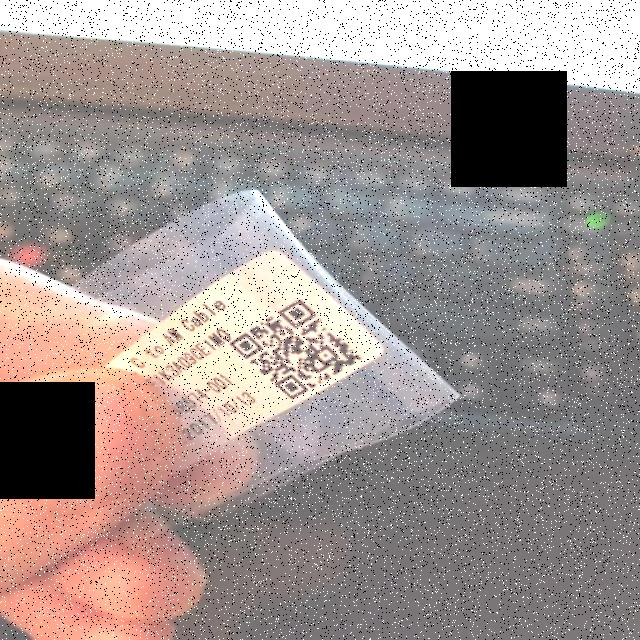QR_CODE: (220, 290, 374, 408)
